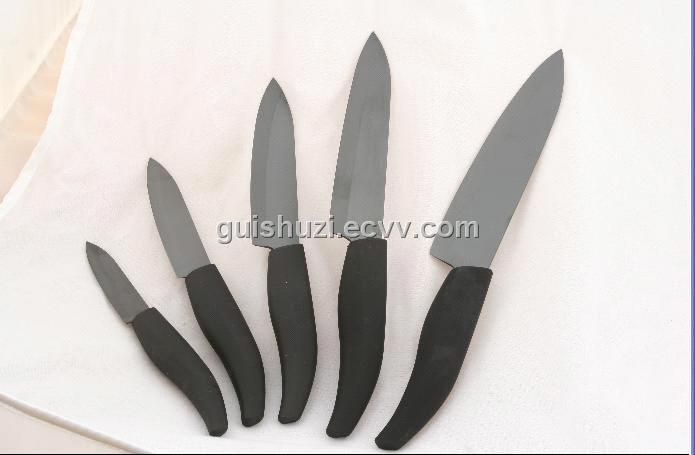knief: (339, 31, 585, 443)
